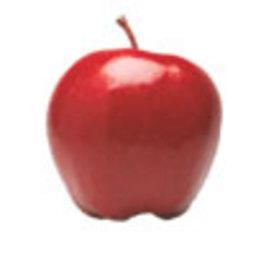apple: (47, 26, 224, 222)
